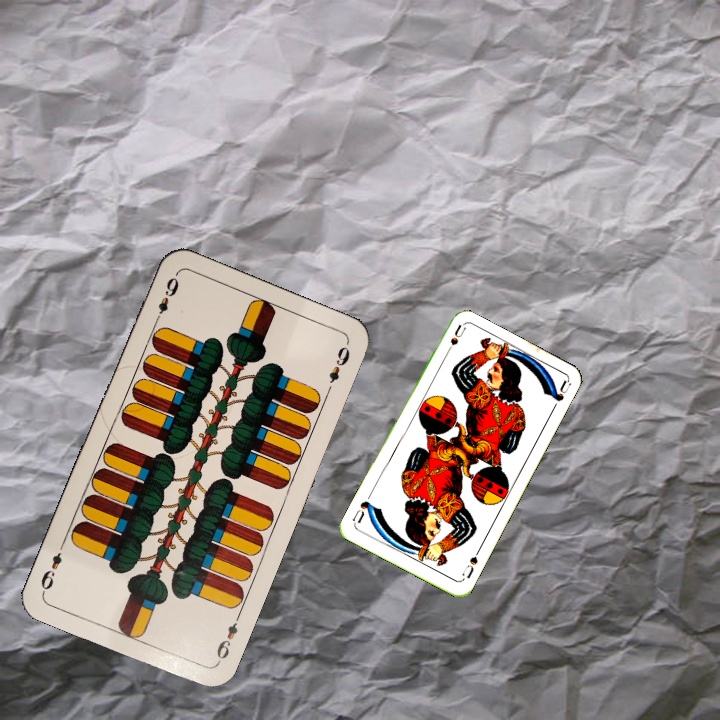E9: (150, 271, 182, 327), (212, 610, 243, 666)
SU: (440, 321, 468, 360), (458, 545, 482, 583)
